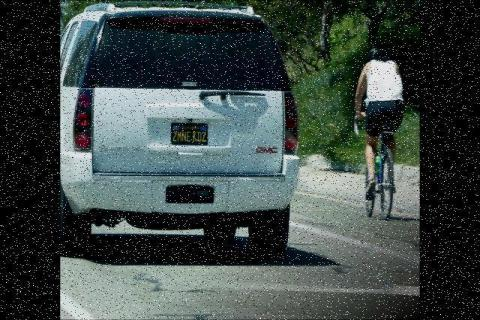LicensePlate: (170, 122, 208, 144)
